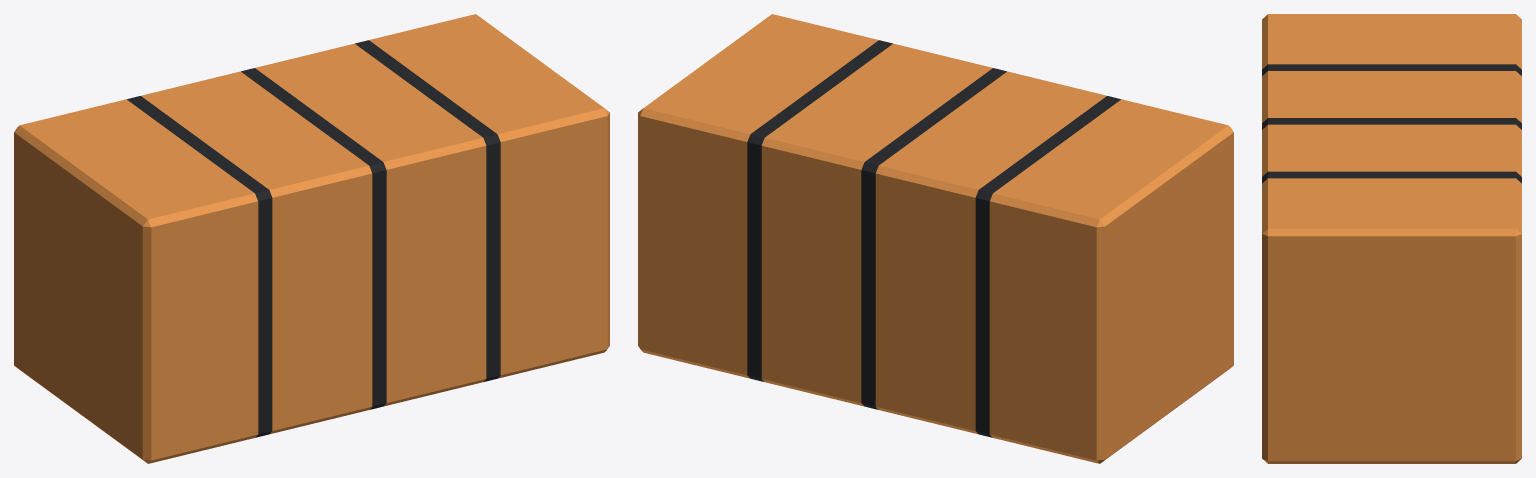
The model's file is Cargo_2.fbx.
3 views of the same model, side by side, from view 1: azimuth 30°, elevation 25°; view 2: azimuth 150°, elevation 25°; view 3: azimuth 270°, elevation 25° (orthographic). The views are drawn at different scales.
Visible parts, largest first — view 1: Cargo_2; view 2: Cargo_2; view 3: Cargo_2.
Boxes of the visible parts, x1,y1,x2,y2 form: Cargo_2: [14, 14, 609, 463]; Cargo_2: [638, 14, 1233, 463]; Cargo_2: [1262, 14, 1521, 463].
Size of the model in its own units: 223 by 112 by 112.
